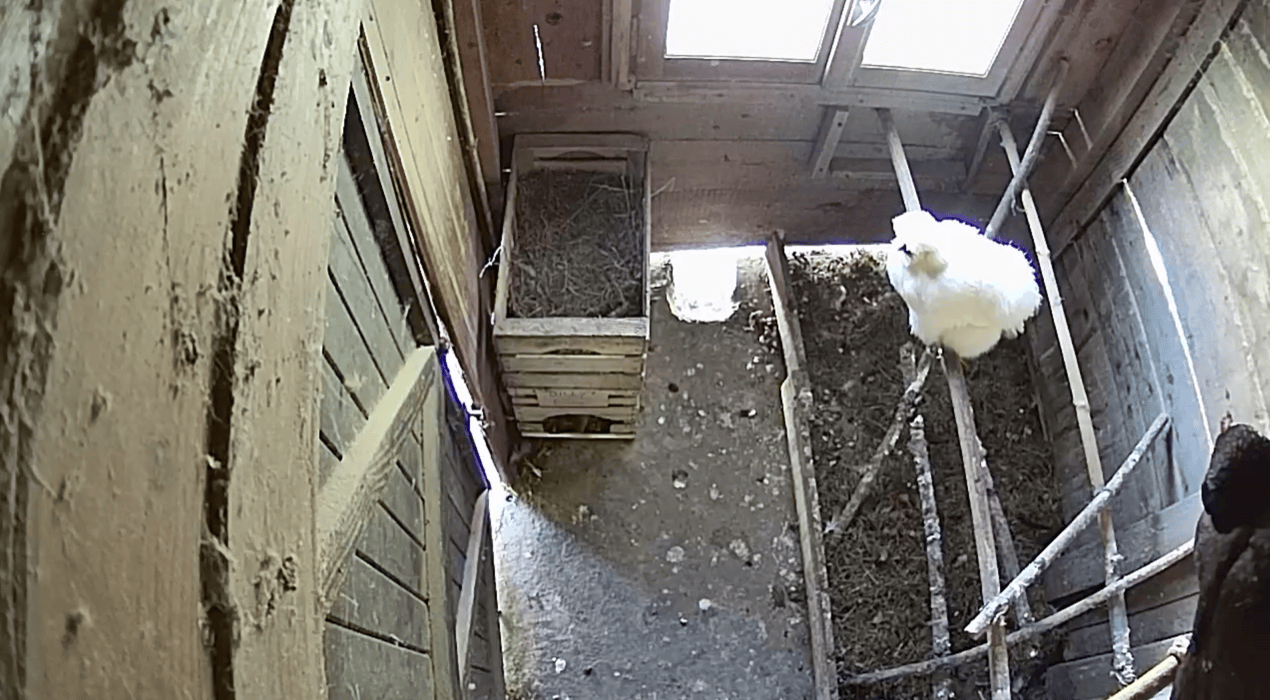chicken: (873, 200, 1052, 375), (1169, 405, 1270, 700)
